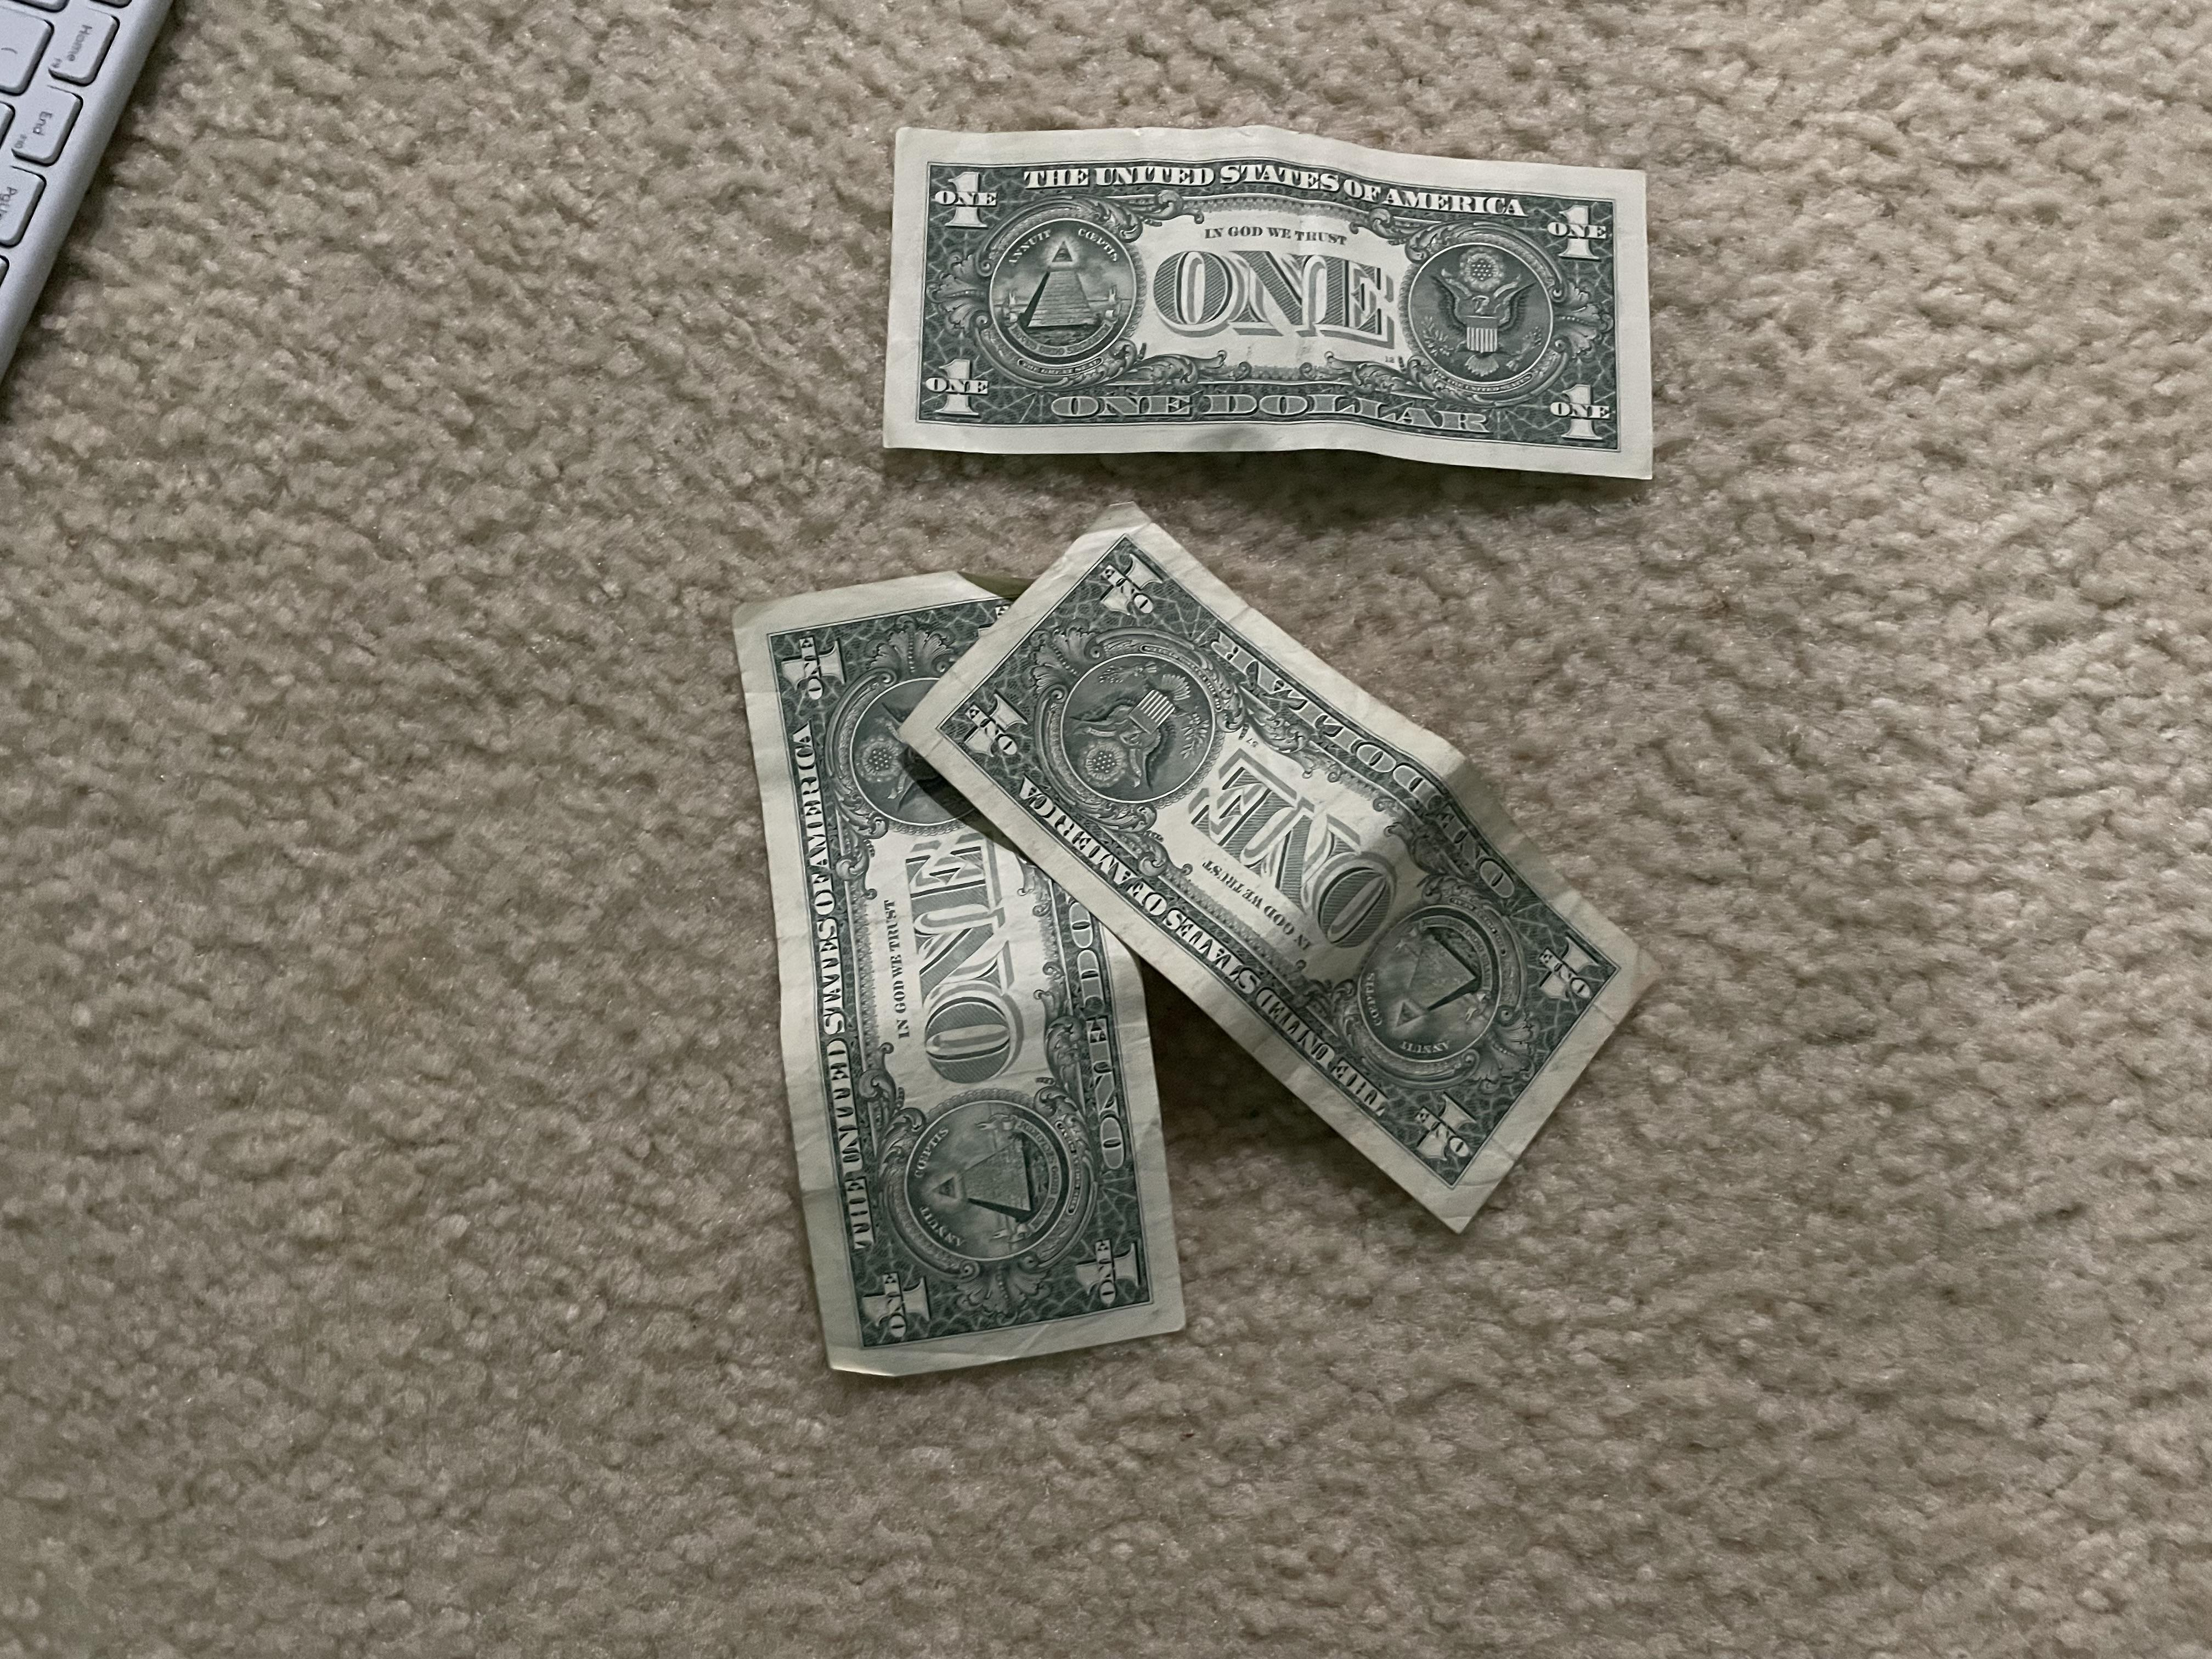OneBill: (907, 509, 1653, 1241), (721, 575, 1200, 1387), (862, 119, 1672, 502)
